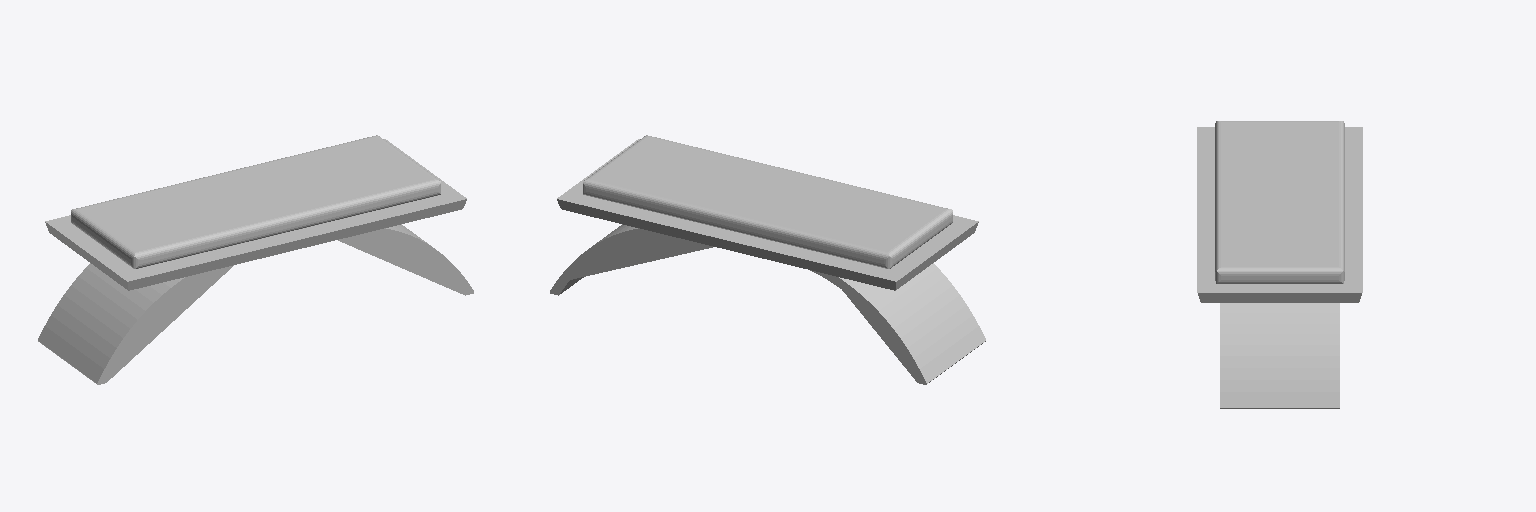
The model's file is Escenario 4 - banca.obj.
3 renders of one model, left to right at view 1: azimuth 30°, elevation 25°; view 2: azimuth 150°, elevation 25°; view 3: azimuth 270°, elevation 25°, orthographic.
Parts seen in each view (by area): view 1: Mesh6 Component4_1 skp7629_1 Model, Mesh1 Component1 skp7629_1 Model, Mesh5 Component3_1 skp7629_1 Model, Mesh2 Component1_1 skp7629_1 Model; view 2: Mesh6 Component4_1 skp7629_1 Model, Mesh1 Component1 skp7629_1 Model, Mesh5 Component3_1 skp7629_1 Model, Mesh2 Component1_1 skp7629_1 Model; view 3: Mesh6 Component4_1 skp7629_1 Model, Mesh2 Component1_1 skp7629_1 Model, Mesh5 Component3_1 skp7629_1 Model.
Boxes of the visible parts, x1,y1,x2,y2 form: Mesh6 Component4_1 skp7629_1 Model: [71, 135, 440, 268]; Mesh1 Component1 skp7629_1 Model: [38, 263, 233, 384]; Mesh5 Component3_1 skp7629_1 Model: [45, 139, 466, 290]; Mesh2 Component1_1 skp7629_1 Model: [338, 224, 473, 295]; Mesh6 Component4_1 skp7629_1 Model: [583, 135, 952, 268]; Mesh1 Component1 skp7629_1 Model: [810, 263, 985, 384]; Mesh5 Component3_1 skp7629_1 Model: [557, 139, 978, 290]; Mesh2 Component1_1 skp7629_1 Model: [550, 224, 712, 295]; Mesh6 Component4_1 skp7629_1 Model: [1215, 121, 1344, 283]; Mesh2 Component1_1 skp7629_1 Model: [1220, 303, 1339, 408]; Mesh5 Component3_1 skp7629_1 Model: [1197, 127, 1362, 302].
Bounding box in the file's own units: 1.97 × 0.616 × 0.7479.